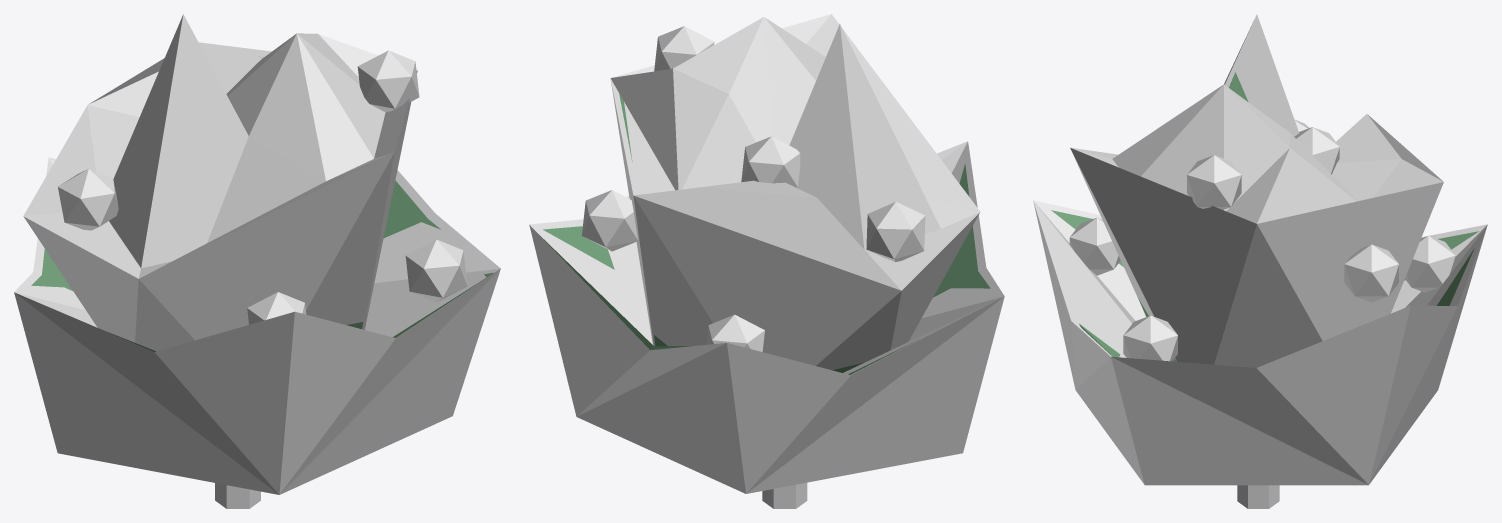
The model's file is resource__plant__fluit-bush__short.fbx.
The picture shows the model from 3 angles, left to right: view 1: azimuth 30°, elevation 25°; view 2: azimuth 150°, elevation 25°; view 3: azimuth 270°, elevation 25°; orthographic projection. The views are drawn at different scales.
Parts seen in each view (by area): view 1: FluitBushGround; view 2: FluitBushGround; view 3: FluitBushGround.
Part boxes in pixels (left/top/right/bottom): FluitBushGround: left=14, top=14, right=500, bottom=508; FluitBushGround: left=529, top=14, right=1004, bottom=508; FluitBushGround: left=1033, top=14, right=1487, bottom=508.
Size of the model in its own units: 106 by 120 by 107.
